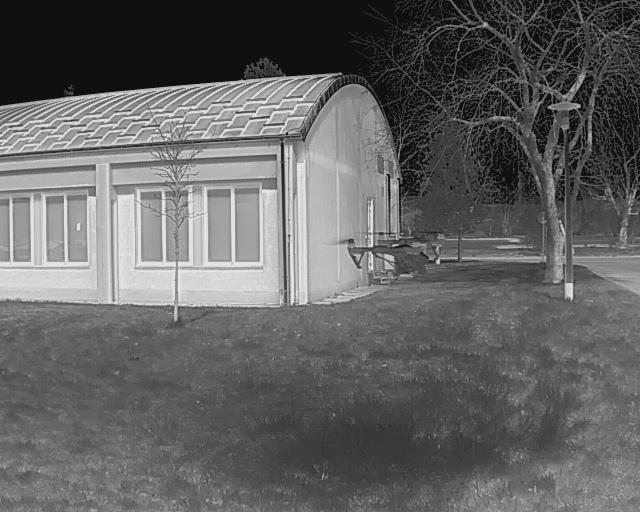drone: (343, 233, 456, 290)
